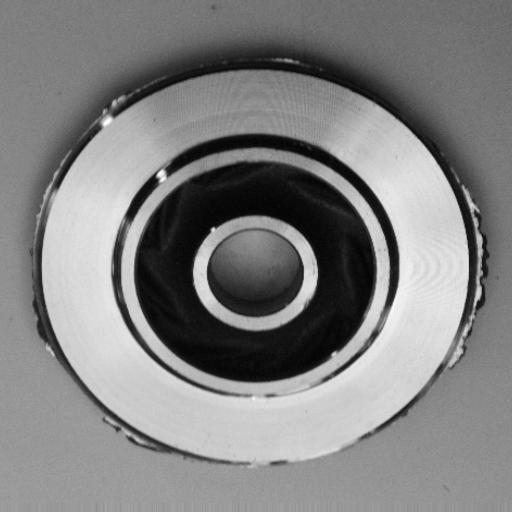casting_with_burr: (27, 51, 493, 469)
scratch: (134, 150, 189, 202), (370, 288, 413, 349), (238, 380, 322, 409)
